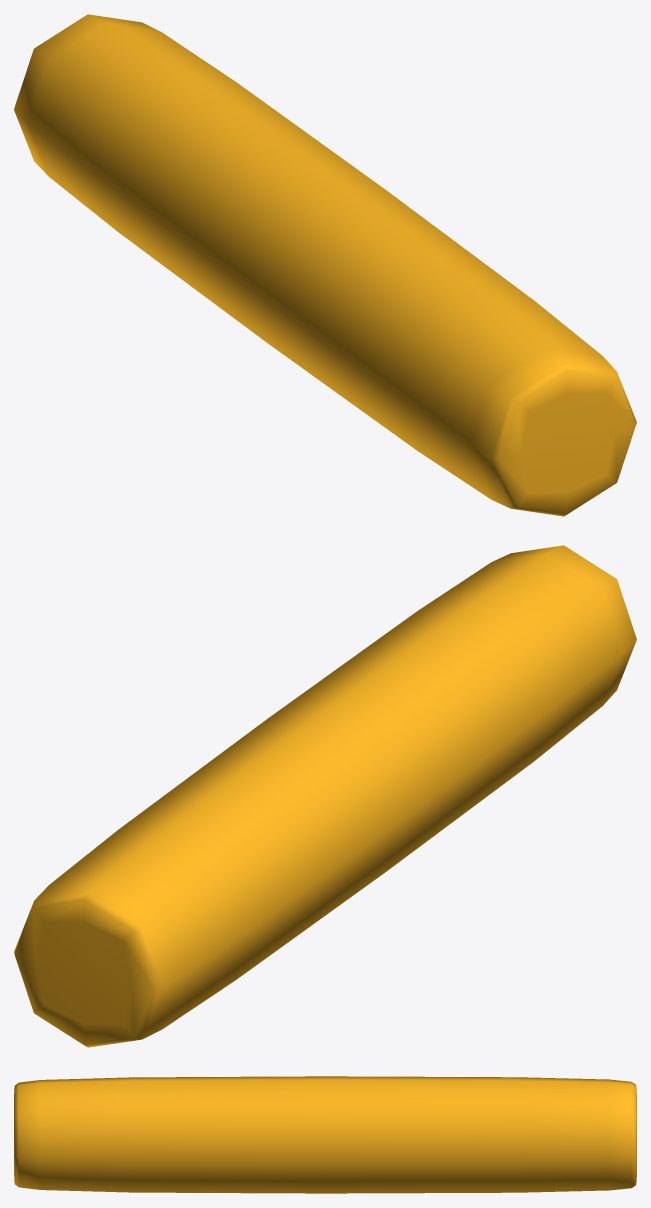
Rendered from Wood_1.fbx.
The picture shows the model from 3 angles, top to bottom: view 1: azimuth 30°, elevation 25°; view 2: azimuth 150°, elevation 25°; view 3: azimuth 270°, elevation 25°; orthographic projection. The views are drawn at different scales.
Parts seen in each view (by area): view 1: Wood_1_LP; view 2: Wood_1_LP; view 3: Wood_1_LP.
Part boxes in pixels (x1,y1,x2,y2): Wood_1_LP: (14,14,636,516); Wood_1_LP: (14,545,636,1047); Wood_1_LP: (14,1076,636,1193).
Bounding box in the file's own units: 46.94 × 46.94 × 241.
Materials: 1 (1 with a texture image).
